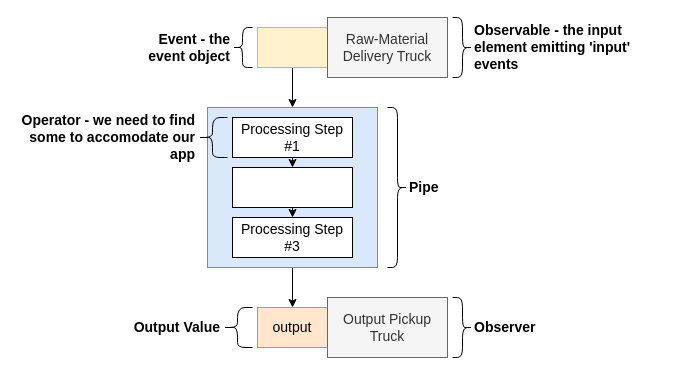
The diagram is 674 pixels wide and 375 high, and some of its shapes have lost their labels. Each missing label, with the centre of its shape:
Processing Step #2: point 292,187
Raw materials: point 292,47
